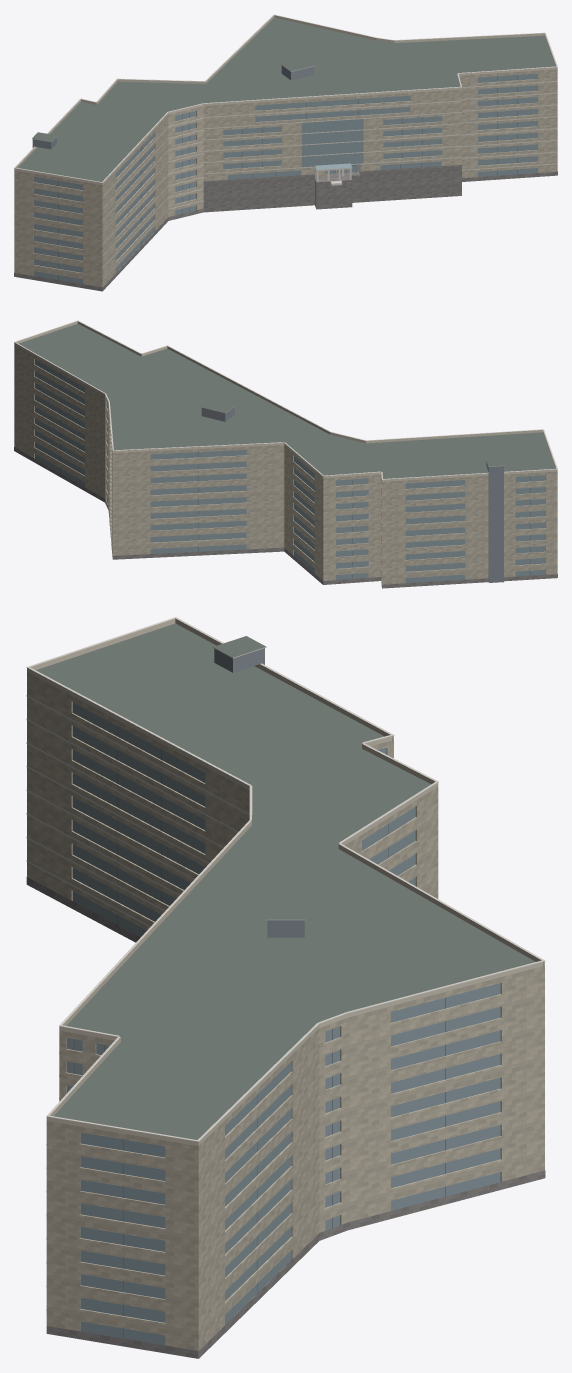
3 renders of one model, top to bottom at view 1: azimuth 30°, elevation 25°; view 2: azimuth 150°, elevation 25°; view 3: azimuth 270°, elevation 25°, orthographic. The views are drawn at different scales.
Visible parts, largest first — view 1: socSci__wall, socSci__roof, socSci__glass, socSci__base, socSci__trim, socSci__parapet, socSci__wall2, socSci__frame; view 2: socSci__wall, socSci__roof, socSci__glass, socSci__parapet, socSci__base, socSci__wall2, socSci__trim; view 3: socSci__wall, socSci__roof, socSci__glass, socSci__parapet, socSci__trim, socSci__base, socSci__wall2.
Part boxes in pixels (box(x1,y1,x2,y2)): socSci__wall: box(14, 69, 557, 287); socSci__roof: box(18, 17, 555, 212); socSci__glass: box(34, 73, 537, 284); socSci__base: box(14, 165, 557, 291); socSci__trim: box(14, 14, 557, 279); socSci__parapet: box(14, 15, 557, 184); socSci__wall2: box(32, 65, 362, 166); socSci__frame: box(58, 75, 517, 279); socSci__wall: box(14, 345, 557, 584); socSci__roof: box(19, 323, 555, 478); socSci__glass: box(34, 359, 545, 582); socSci__parapet: box(14, 321, 557, 481); socSci__base: box(14, 447, 557, 588); socSci__wall2: box(201, 407, 503, 582); socSci__trim: box(14, 320, 557, 479); socSci__wall: box(27, 672, 544, 1358); socSci__roof: box(36, 623, 535, 1139); socSci__glass: box(66, 702, 500, 1345); socSci__parapet: box(27, 618, 544, 1146); socSci__trim: box(26, 617, 545, 1310); socSci__base: box(26, 877, 545, 1358); socSci__wall2: box(214, 648, 304, 937).
Bounding box in the file's own units: 171 × 35.57 × 71.66.
12 materials, 2 textured.
